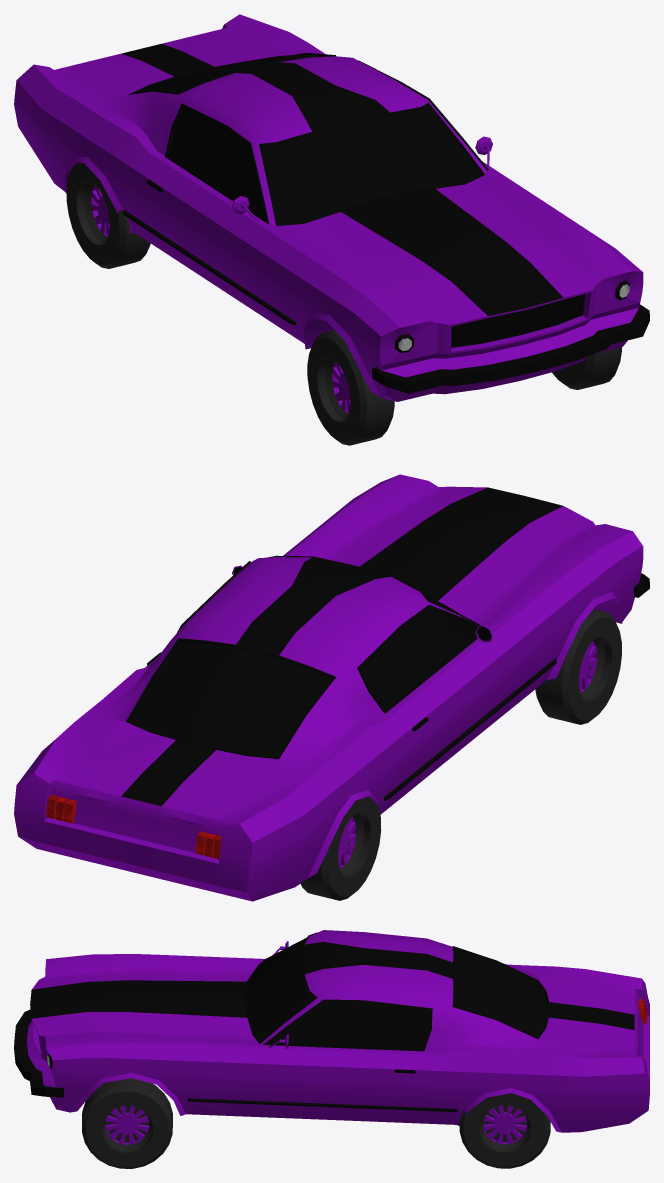
File: shelby.fbx
3 renders of one model, top to bottom at view 1: azimuth 30°, elevation 25°; view 2: azimuth 150°, elevation 25°; view 3: azimuth 270°, elevation 25°, orthographic. The views are drawn at different scales.
Visible parts, largest first — view 1: Car, Front Right Wheel, Rear Right Wheel, Front Left Wheel; view 2: Car, Front Right Wheel, Rear Right Wheel; view 3: Car, Front Left Wheel, Rear Left Wheel.
Boxes of the visible parts, x1,y1,x2,y2 form: Car: (14,14,649,401); Front Right Wheel: (307,329,394,445); Rear Right Wheel: (66,162,150,268); Front Left Wheel: (552,347,621,389); Car: (14,474,649,901); Front Right Wheel: (535,609,621,724); Rear Right Wheel: (300,796,381,900); Car: (14,930,649,1132); Front Left Wheel: (82,1078,172,1168); Rear Left Wheel: (459,1093,550,1168).
Size of the model in its own units: 132 by 98.78 by 342.
